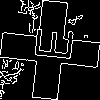E: (25, 25, 74, 63)
